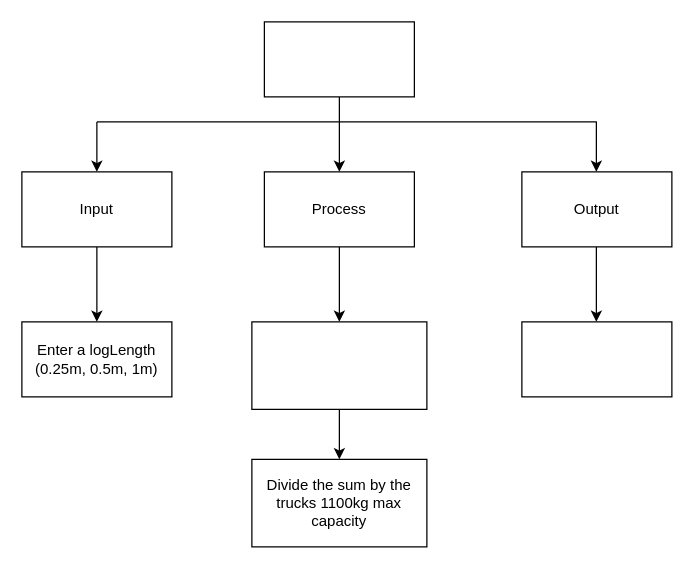
Some shapes in this 694 by 569 pixel diagram are drawn without their labels. The centre of each missing label's shape, as x and y in pixels:
"Multiply the users chosen log length by 20" goes at point 339,365.
"Show how many logs the truck can hold" goes at point 596,359.
"Truck Logs" goes at point 338,59.
